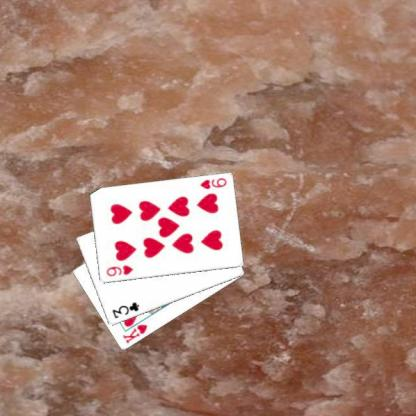3C: (109, 300, 140, 320)
9H: (103, 262, 134, 278), (197, 175, 228, 191)
KH: (120, 321, 148, 345)
